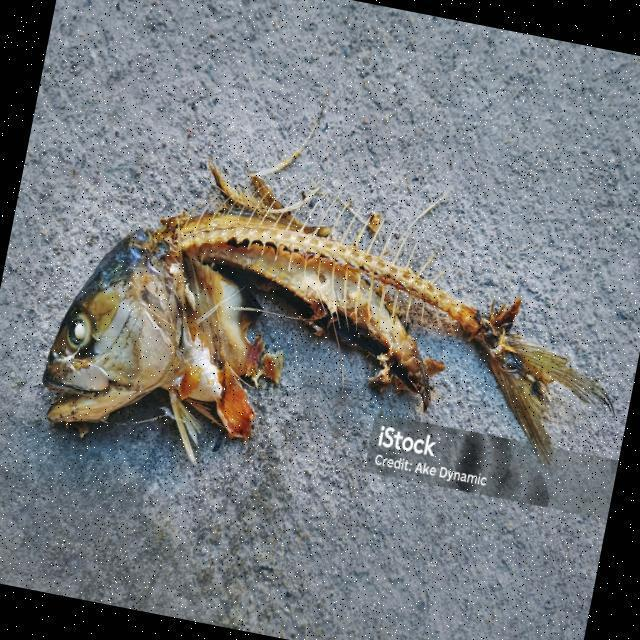Wet Waste: (38, 141, 608, 534)
